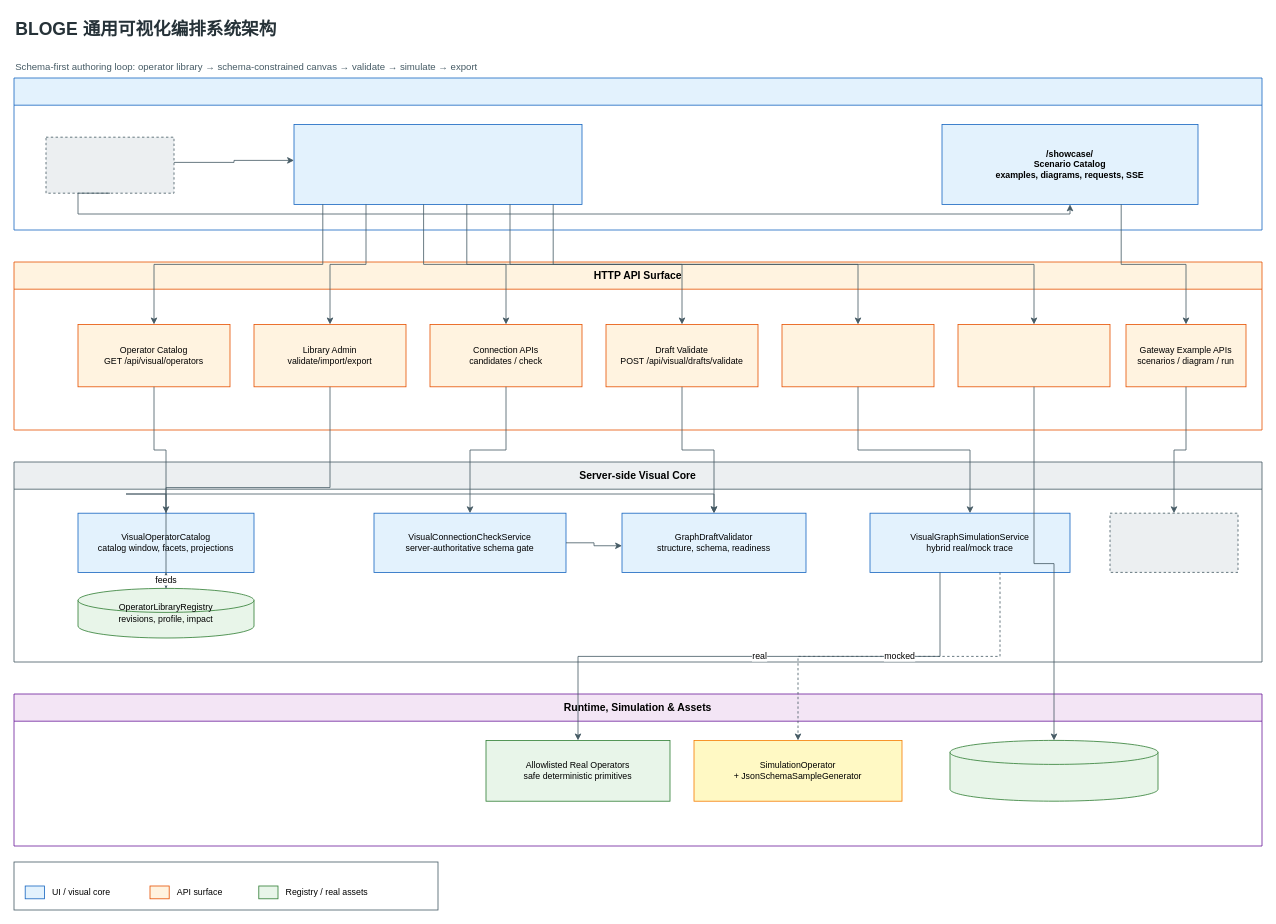
This 1276x924 diagram has some shape labels left out. Here are the shapes that lost their labels. From the top down, the box of each, then its label:
(45, 136, 174, 193): 业务编排者 Business author
(293, 124, 582, 204): /author/ React Flow Canvas drag, wire, validate, simulate
(13, 77, 1262, 230): User & Browser Experience
(781, 324, 934, 387): Graph Simulate POST /api/visual/graphs/simulate
(957, 324, 1110, 387): Export APIs draft / publication / library
(1109, 512, 1238, 572): Resource Gateway DSL Graphs
(949, 740, 1158, 801): Portable Assets draft, publication, builtin library, golden cases
(13, 861, 438, 910): Legend
